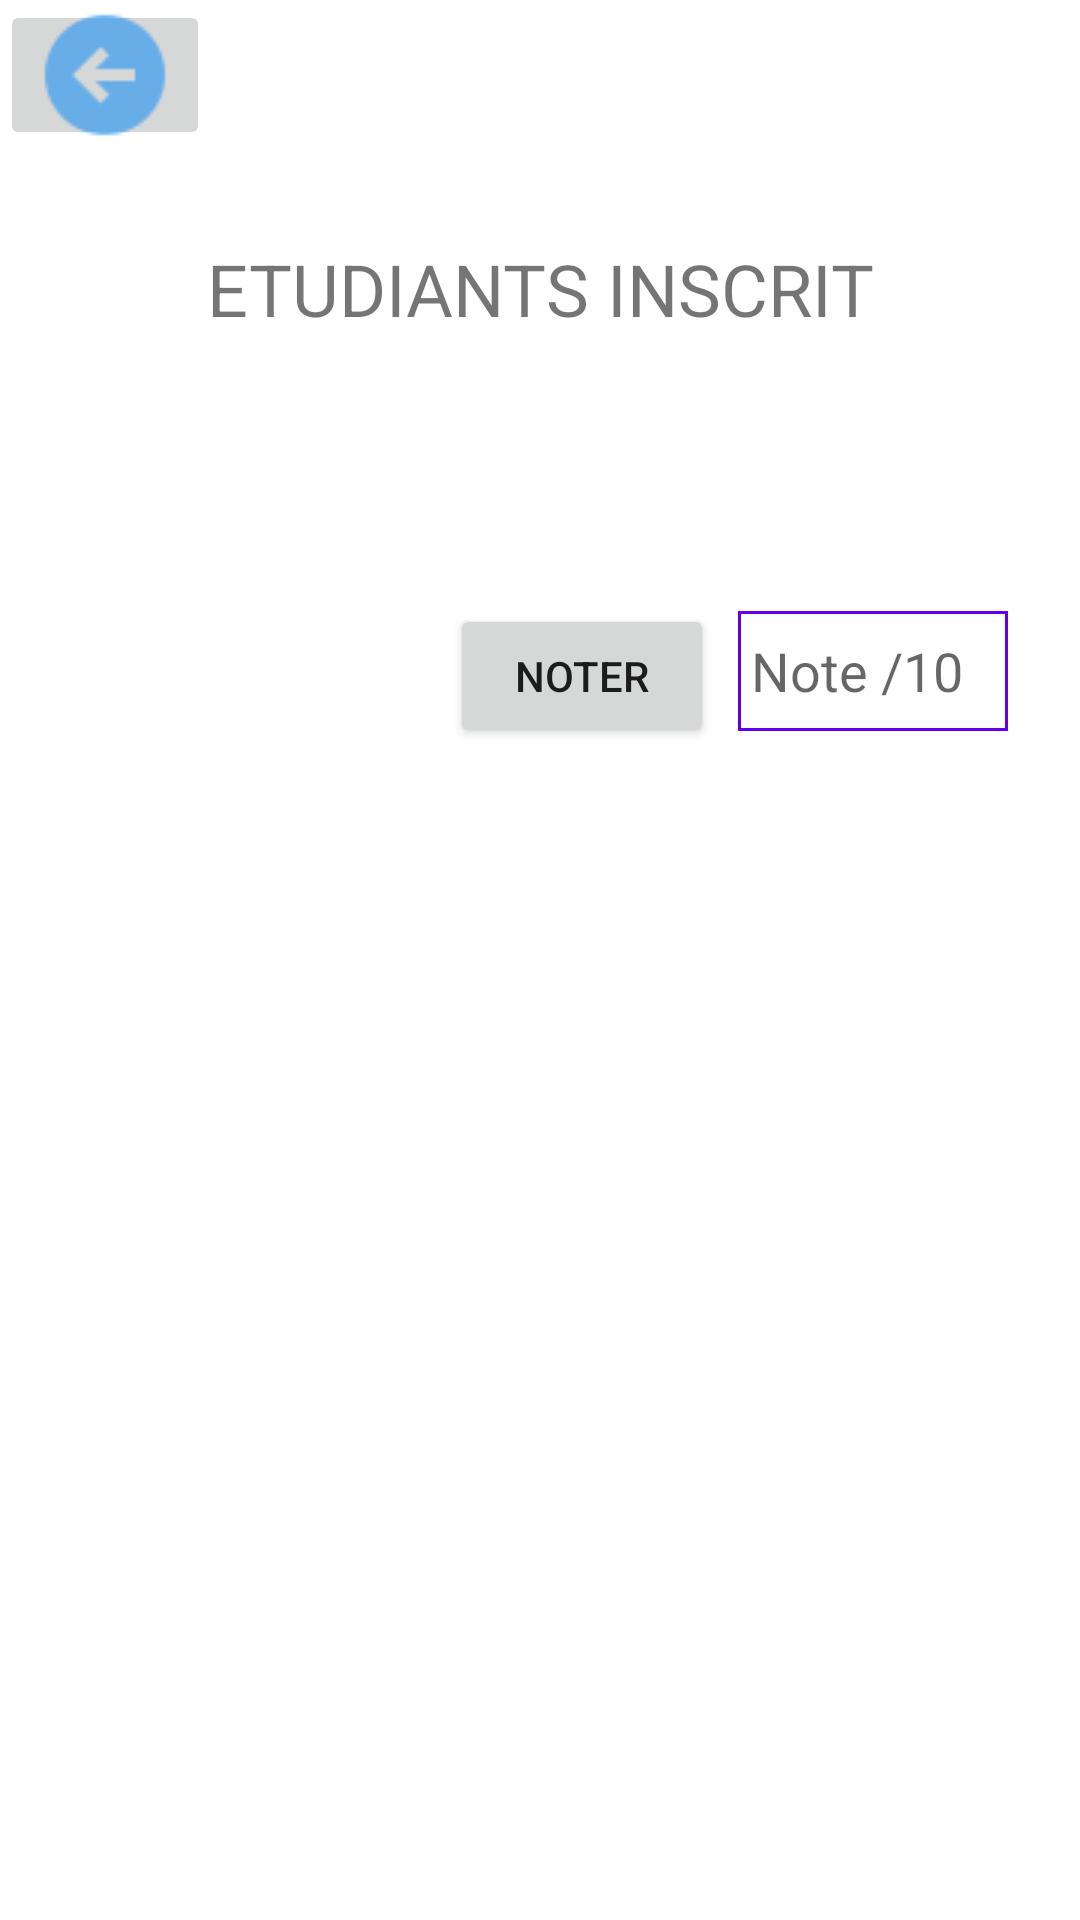

Icons on this 1080px×1920px Android screen, each with the point to tap as [x,y]:
back: [105,75]
